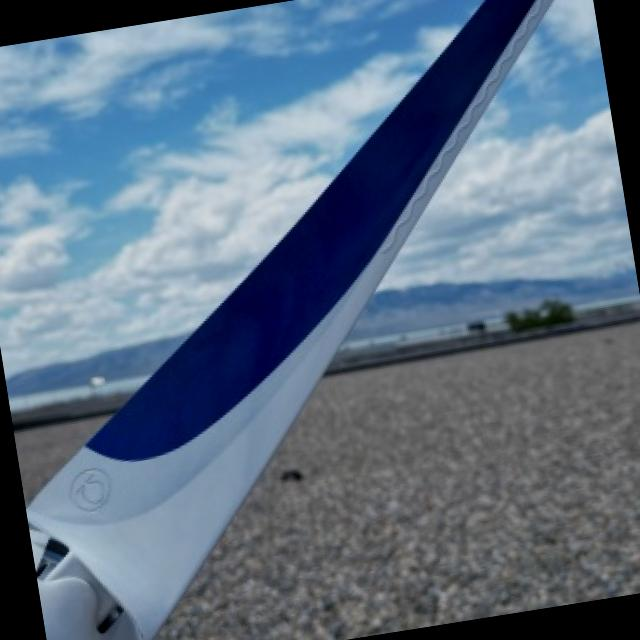healthy: (29, 0, 546, 640)
